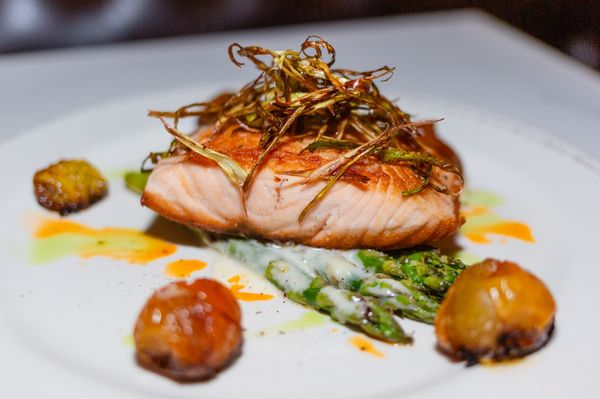curry: (19, 7, 600, 392)
